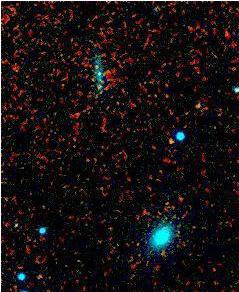star: (150, 126, 180, 156)
